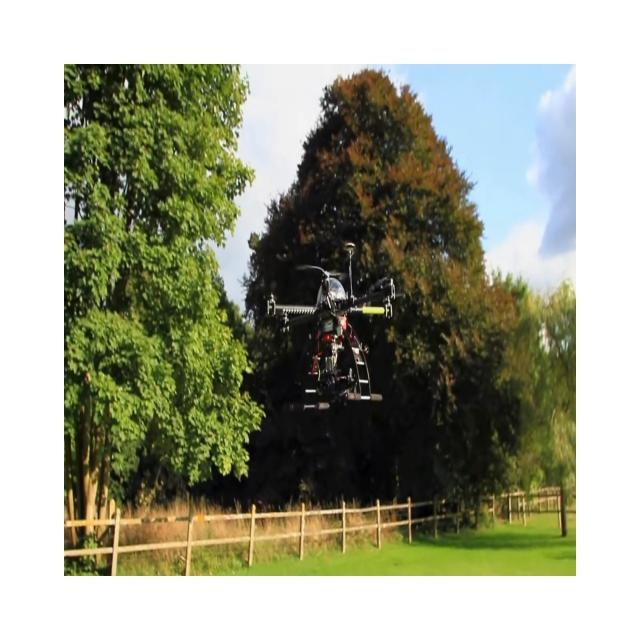drone: (266, 240, 404, 412)
